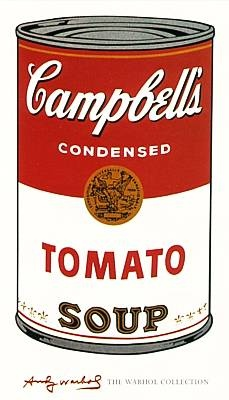grozi_88: (15, 16, 217, 354)
